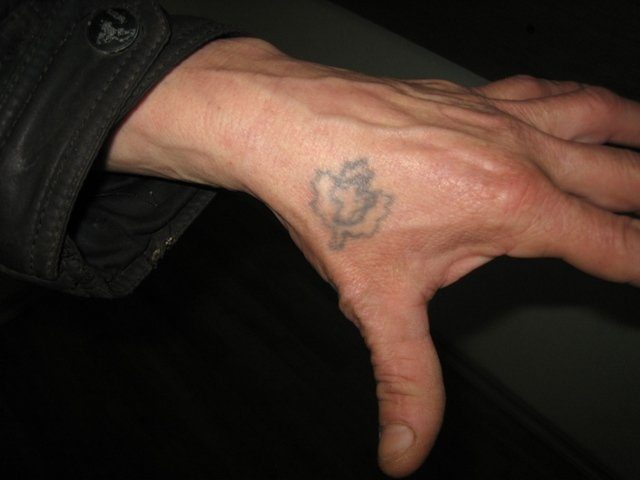tatu9_krest: (326, 169, 379, 234)
